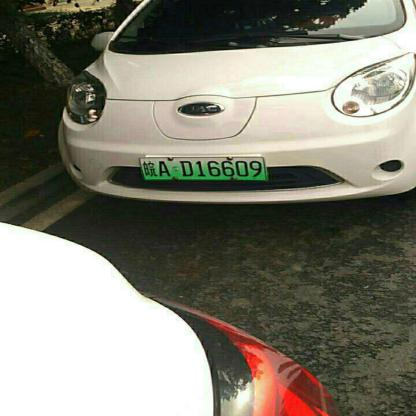lp: (139, 157, 266, 179)
